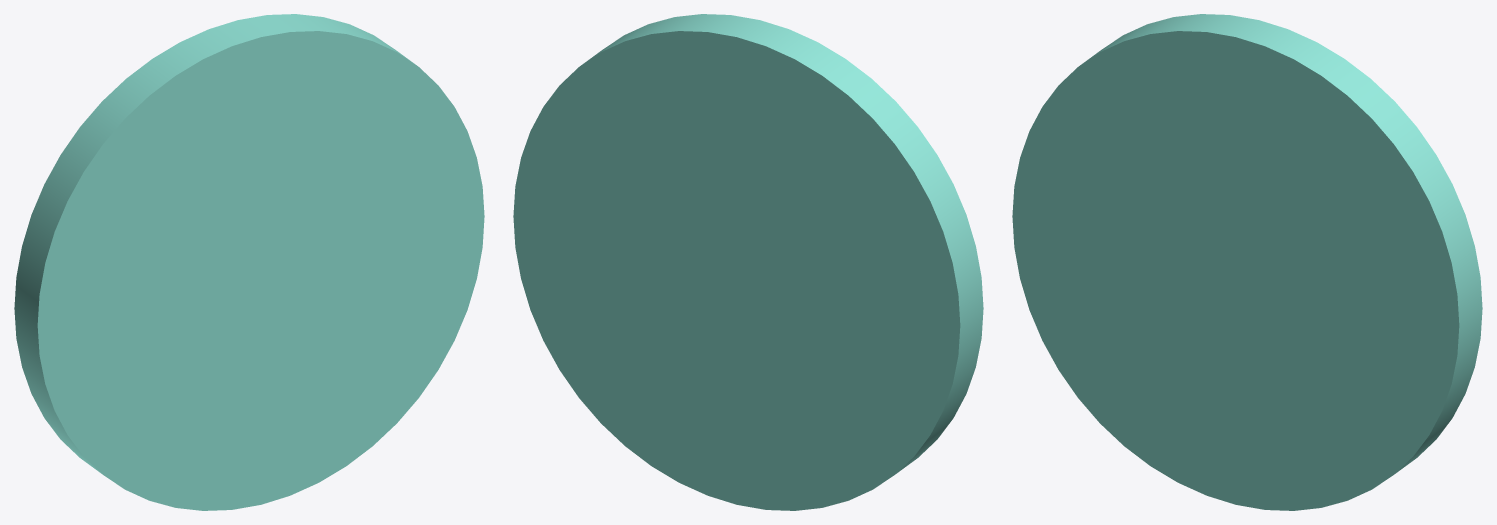
The model's file is badge_sulley_tail.glb.
3 views of the same model, side by side, from view 1: azimuth 30°, elevation 25°; view 2: azimuth 150°, elevation 25°; view 3: azimuth 330°, elevation 25° (orthographic).
Visible parts, largest first — view 1: badge; view 2: badge; view 3: badge.
Boxes of the visible parts, <box> form: badge: <box>14,14,484,510</box>; badge: <box>513,14,983,510</box>; badge: <box>1012,14,1482,510</box>.
Size of the model in its own units: 2 by 2 by 0.18.
